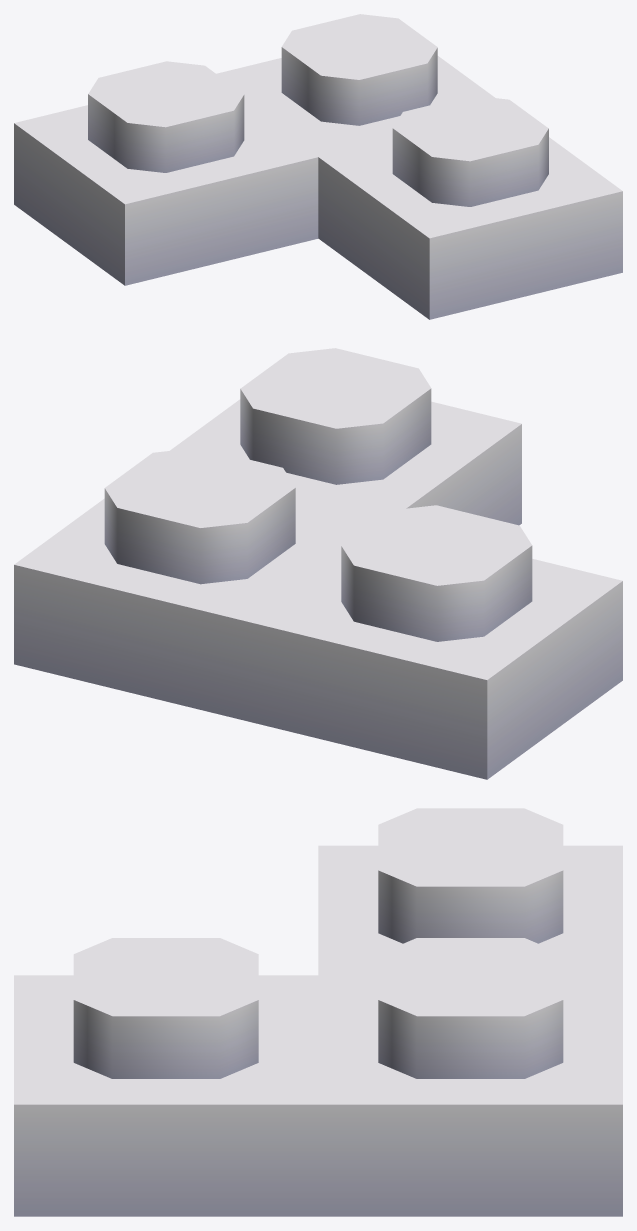
The model's file is kenney-brick-bevel-lq-plate-corner.glb.
3 renders of one model, top to bottom at view 1: azimuth 30°, elevation 25°; view 2: azimuth 150°, elevation 25°; view 3: azimuth 270°, elevation 25°, orthographic. The views are drawn at different scales.
Parts seen in each view (by area): view 1: bevel-lq-plate-corner; view 2: bevel-lq-plate-corner; view 3: bevel-lq-plate-corner.
Boxes of the visible parts, box(x1,y1,x2,y2) form: bevel-lq-plate-corner: box(14, 14, 622, 319); bevel-lq-plate-corner: box(14, 348, 622, 779); bevel-lq-plate-corner: box(14, 808, 622, 1216).
Bounding box in the file's own units: 0.159 × 0.05 × 0.158.
1 material, 1 textured.
